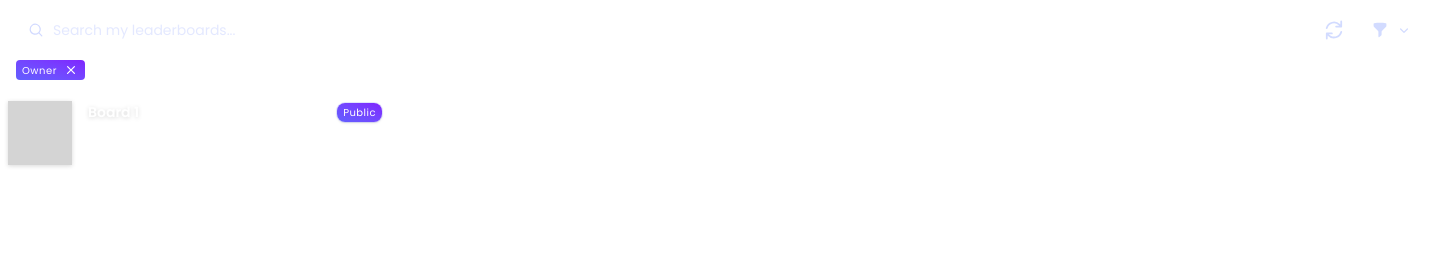
Test: LeaderboardMy.vue › hides selected filters from dropdown
Step 1. Click the button named "Filter" → {"x": 1392, "y": 30}, box [1360, 16, 1424, 44]
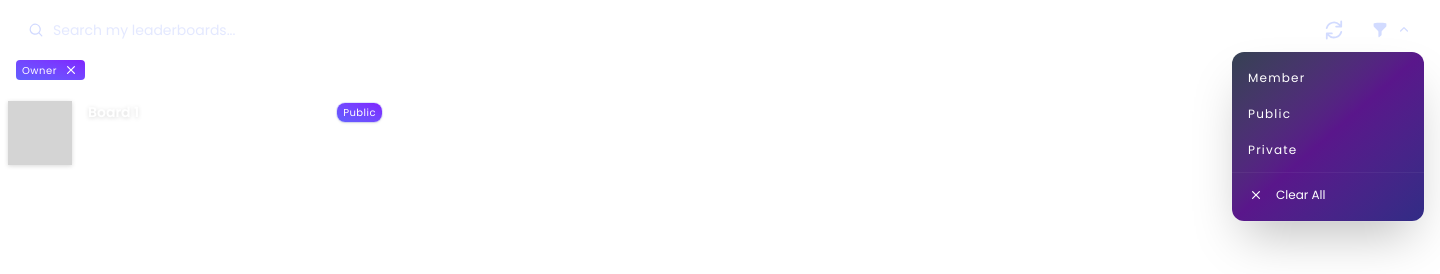
Expected: the element with class "animate-fade-in" does not show "Owner"
Result: the element with class "animate-fade-in" shows "Public" at [1248, 105, 1291, 122]
Result: the element with class "animate-fade-in" shows "Private" at [1248, 141, 1297, 158]
